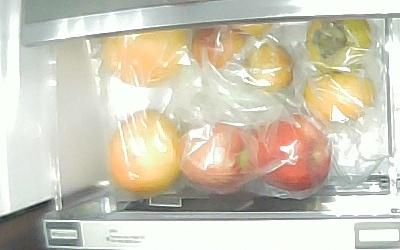apple_vinyl: (254, 112, 331, 192), (181, 122, 256, 192)
grapefruit_vinyl: (109, 108, 182, 194), (99, 28, 190, 87)
persimmon_vinyl: (304, 71, 376, 123), (304, 18, 371, 73)
prune_vinyl: (189, 25, 245, 69), (247, 44, 294, 90)
